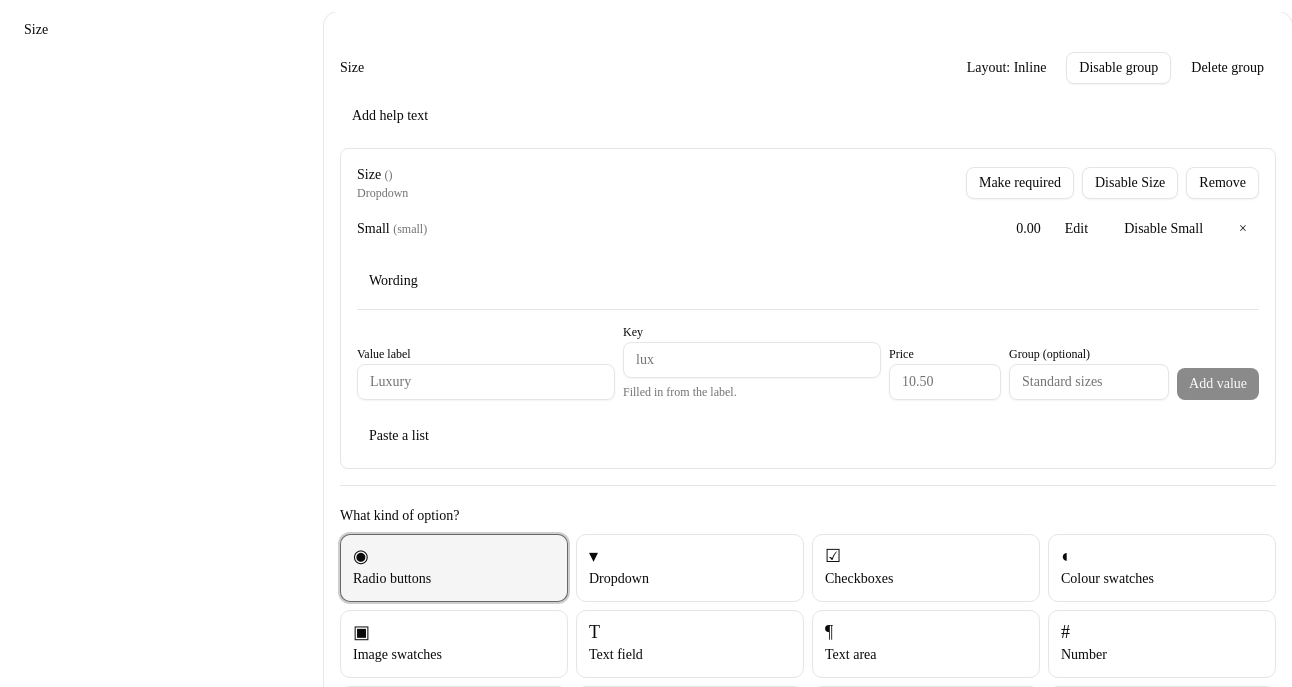
Test: PasteValues › writes nothing when a value already exists
The width and height of the screenshot is (1292, 687).
Click the button "Paste a list".
click(399, 436)  # box [357,420,441,452]
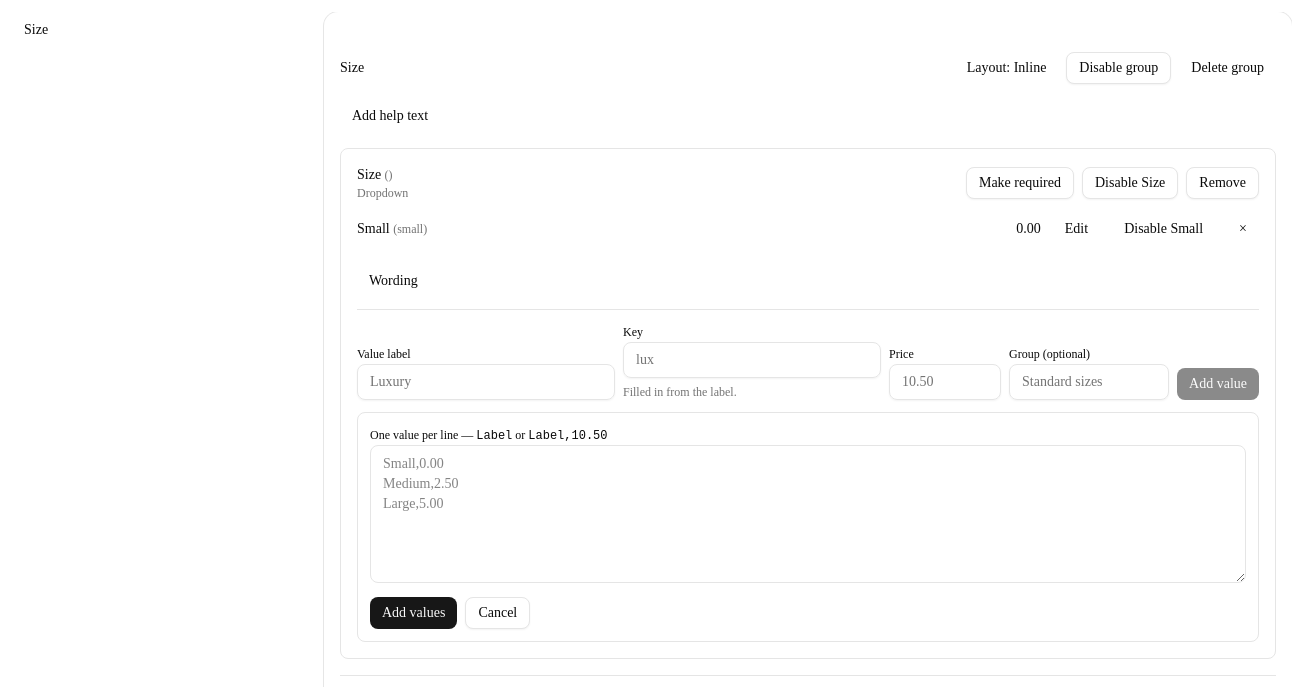
Type "Small" into the text box labelled "One value per line — Label or Label,10.50".
click(808, 514); type("Small")  # box [370,445,1246,583]
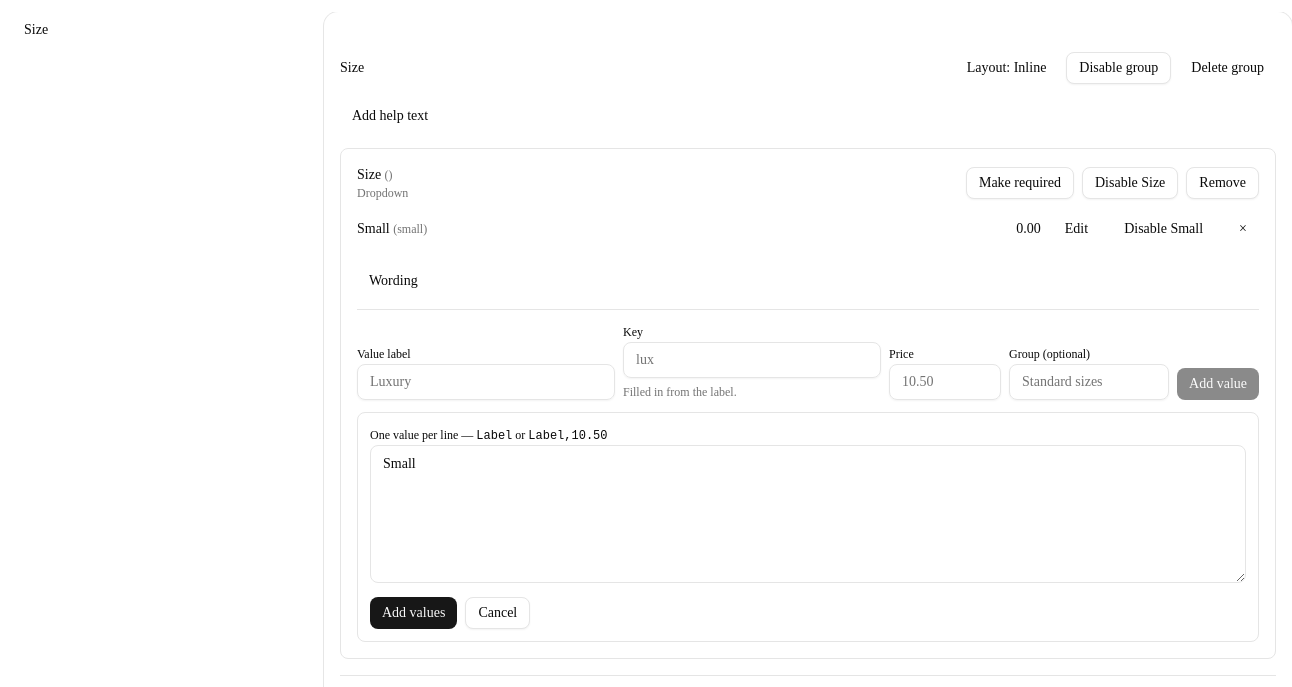
Click the button "Add values".
click(414, 613)  # box [370,597,457,629]
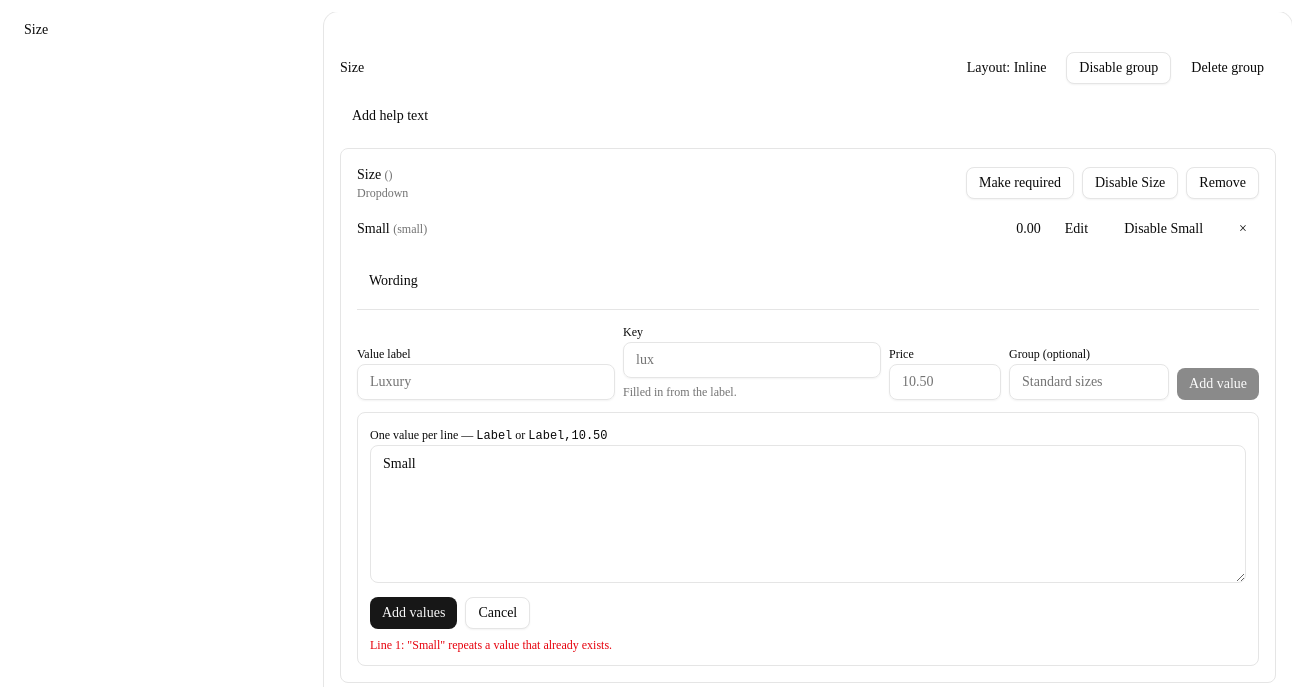
Expected: the list item "Line 1: \"Small\" repeats a value that already exists." is shown, [370,638,612,652]
